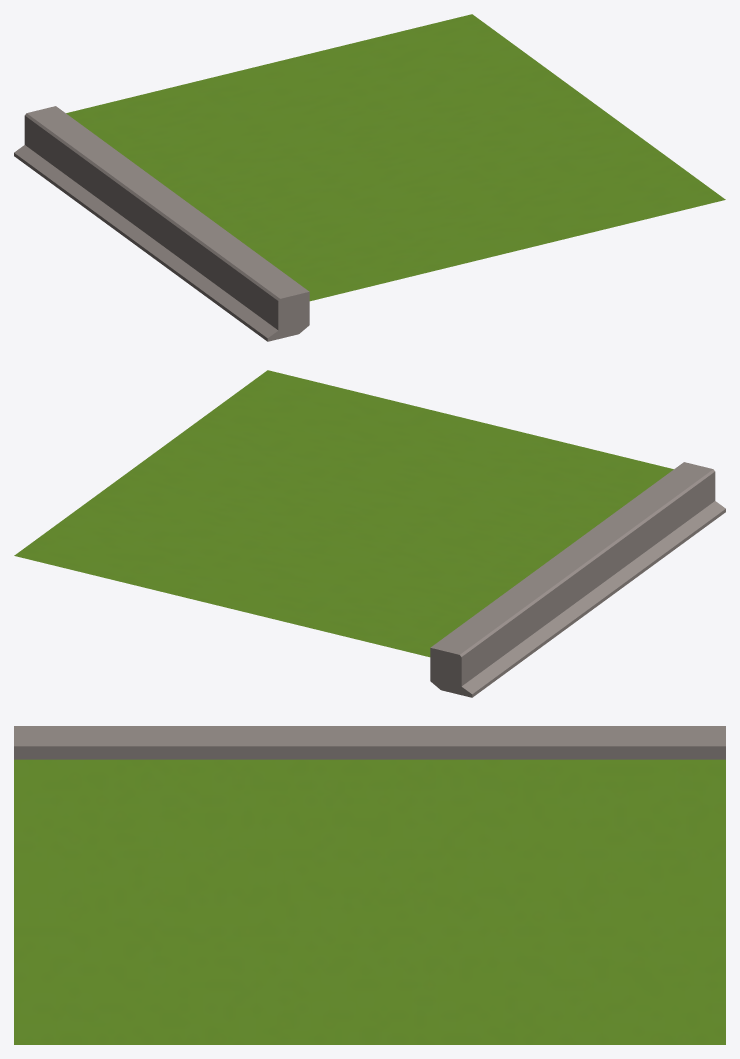
Rendered from GrassPlane_05.fbx.
The picture shows the model from 3 angles, top to bottom: view 1: azimuth 30°, elevation 25°; view 2: azimuth 150°, elevation 25°; view 3: azimuth 270°, elevation 25°; orthographic projection. The views are drawn at different scales.
Visible parts, largest first — view 1: GrassPlane_05; view 2: GrassPlane_05; view 3: GrassPlane_05.
Part boxes in pixels (<box>): GrassPlane_05: <box>14,14,725,341</box>; GrassPlane_05: <box>14,370,725,697</box>; GrassPlane_05: <box>14,726,725,1044</box>.
Size of the model in its own units: 6.26 by 0.5208 by 6.
